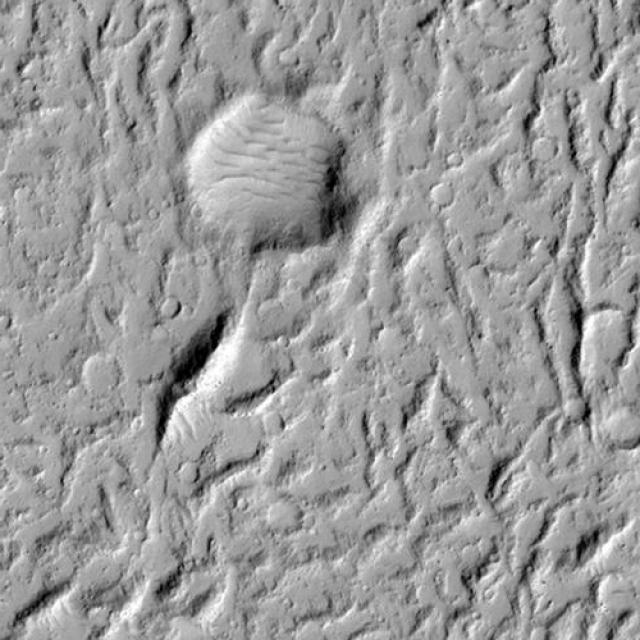crater: (165, 59, 379, 271), (548, 289, 640, 389), (494, 112, 595, 188), (399, 152, 486, 232), (245, 482, 335, 558), (581, 387, 640, 471), (162, 443, 224, 507), (606, 430, 640, 481), (156, 618, 225, 640), (398, 614, 454, 640), (614, 401, 640, 448), (0, 421, 19, 462)
